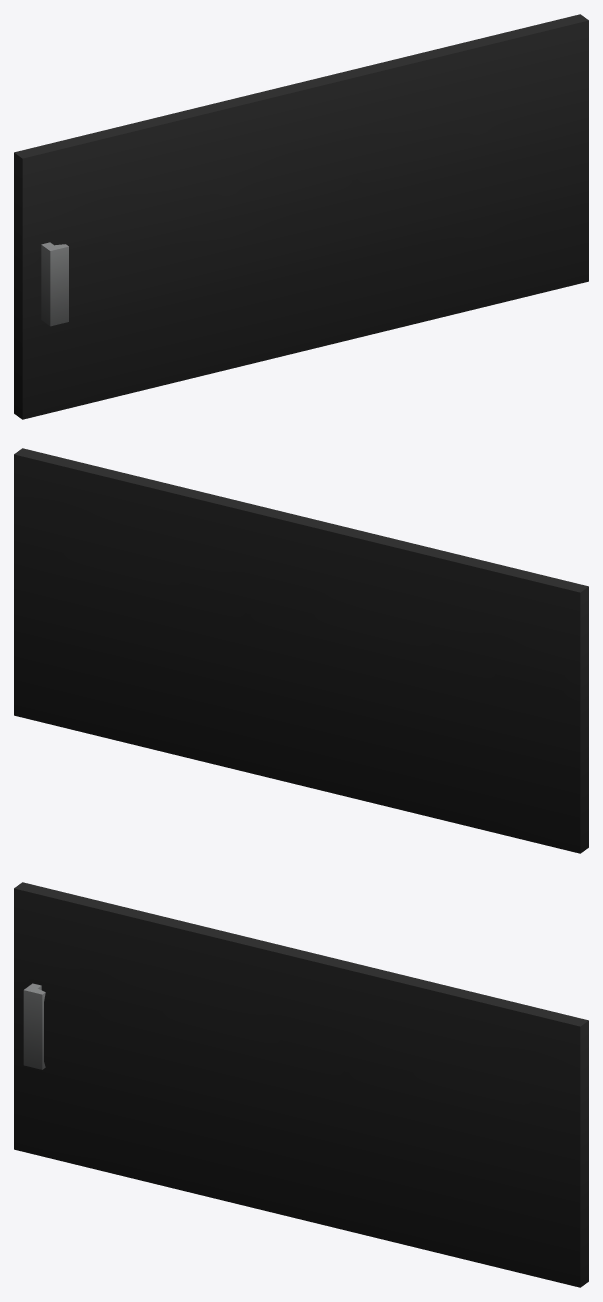
Rendered from Door_SideboardCabinet_A_Black_right.fbx.
The picture shows the model from 3 angles, top to bottom: view 1: azimuth 30°, elevation 25°; view 2: azimuth 150°, elevation 25°; view 3: azimuth 330°, elevation 25°; orthographic projection.
Parts seen in each view (by area): view 1: Door_SideboardCabinet_A_Black_right; view 2: Door_SideboardCabinet_A_Black_right; view 3: Door_SideboardCabinet_A_Black_right.
Part boxes in pixels (x1,y1,x2,y2): Door_SideboardCabinet_A_Black_right: (14,14,588,419); Door_SideboardCabinet_A_Black_right: (14,448,588,853); Door_SideboardCabinet_A_Black_right: (14,882,588,1287).
Size of the model in its own units: 94.47 by 41.61 by 5.09.
